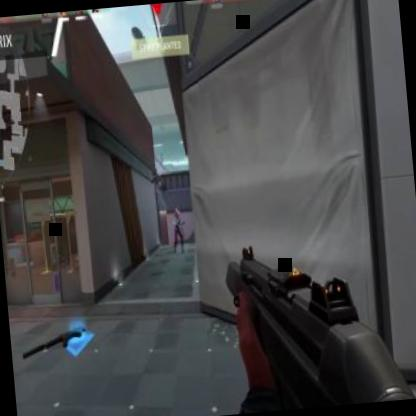enemy: (168, 206, 186, 252)
enemy_head: (176, 208, 180, 217)
